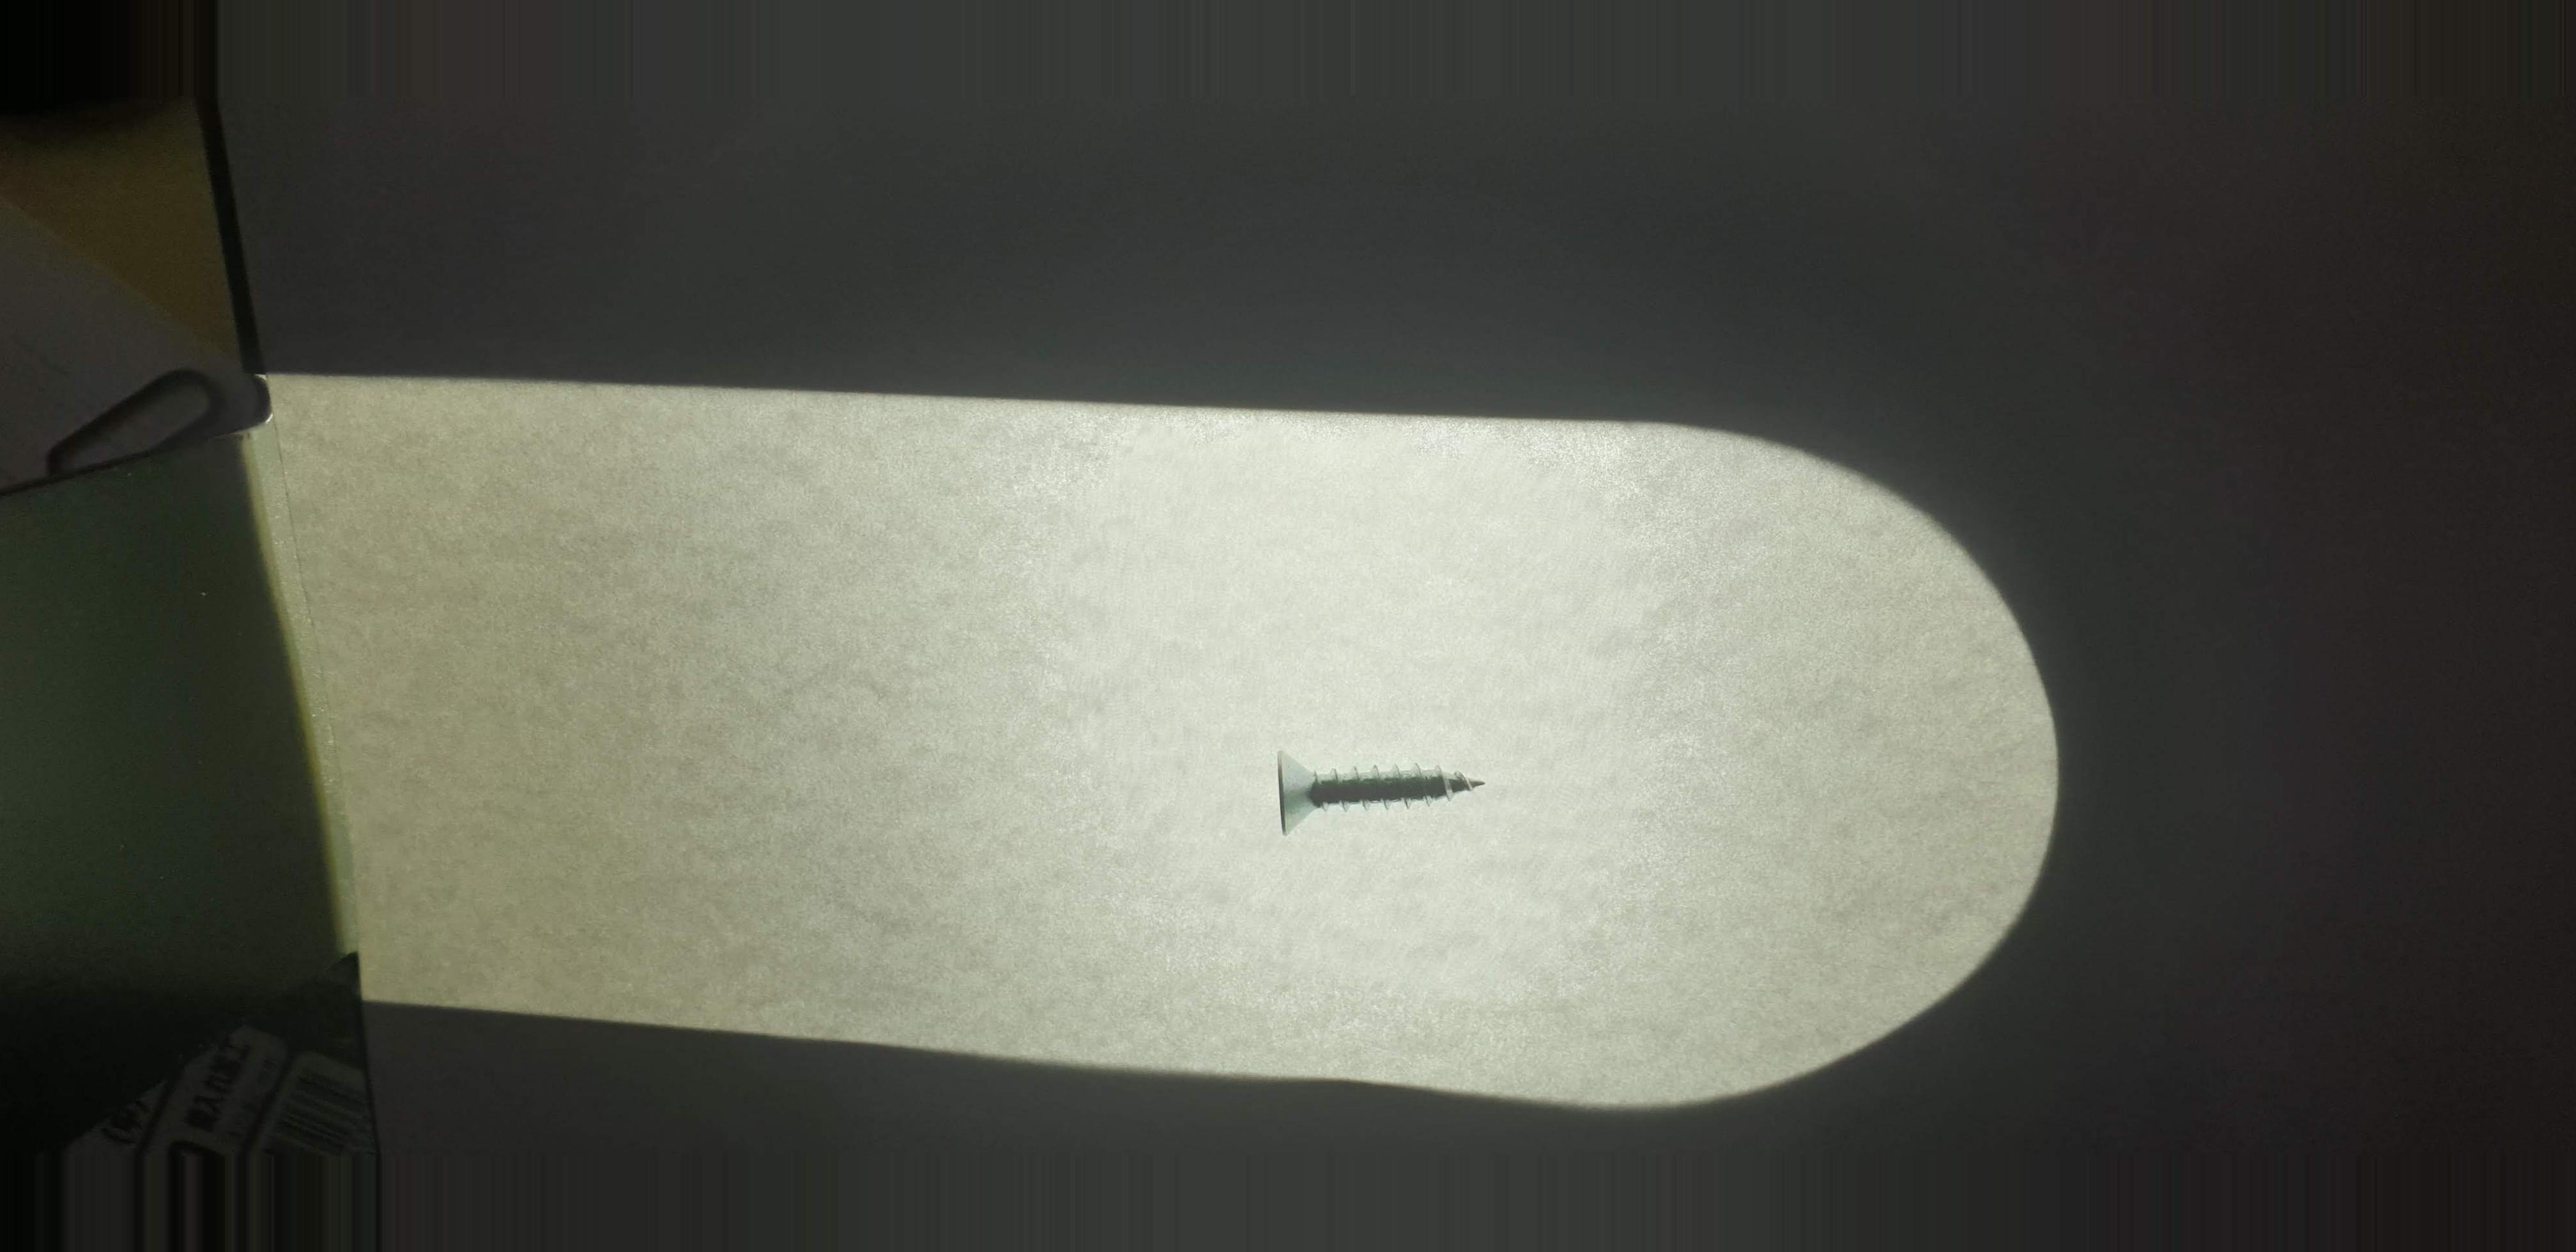S003: (1255, 721, 1506, 863)
